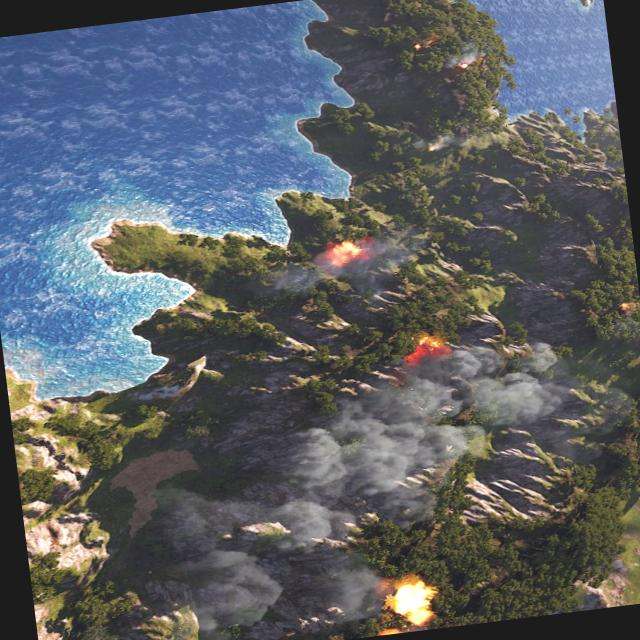fire: (388, 580, 437, 626), (400, 330, 450, 366), (327, 240, 363, 268), (412, 36, 437, 51), (615, 300, 632, 312), (425, 146, 437, 152), (458, 64, 467, 70)
smoke: (167, 336, 595, 640), (249, 224, 436, 306), (441, 41, 487, 70), (413, 133, 463, 155)
